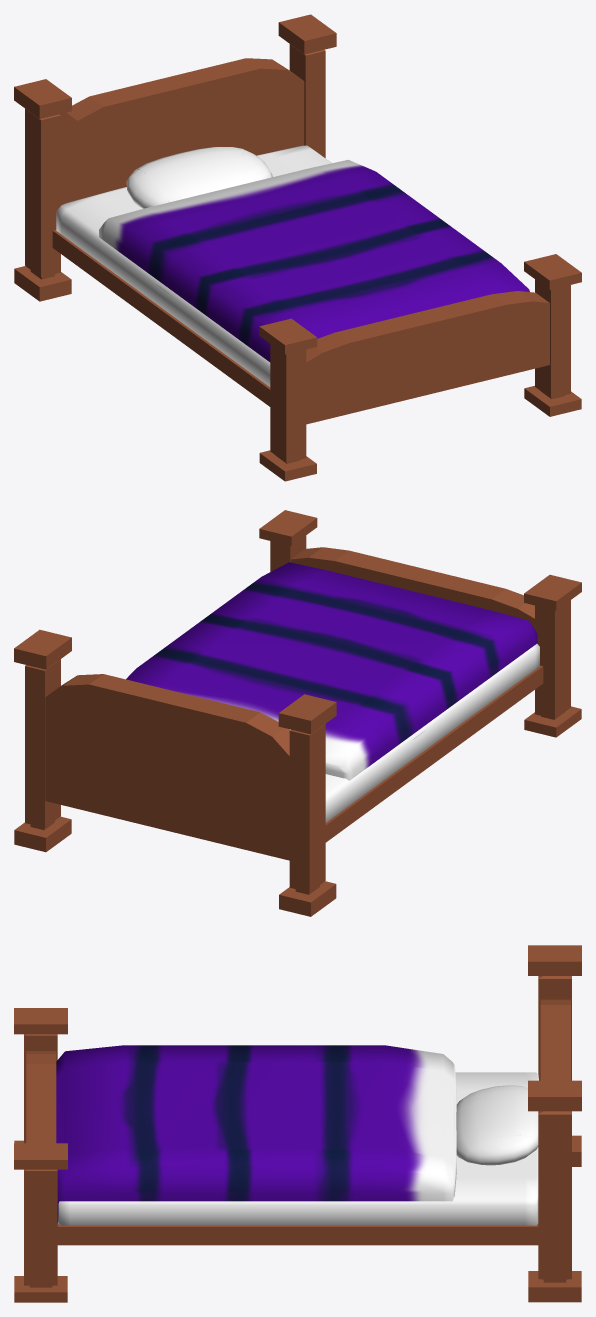
File: clean Bed.glb
3 views of the same model, one above another, from view 1: azimuth 30°, elevation 25°; view 2: azimuth 150°, elevation 25°; view 3: azimuth 270°, elevation 25° (orthographic). The views are drawn at different scales.
Parts seen in each view (by area): view 1: Cube, Cube.004, Cube.002, Cube.001, Cube.003, Cube.005; view 2: Cube.004, Cube, Cube.002, Cube.001, Cube.003; view 3: Cube.004, Cube.003, Cube, Cube.002, Cube.001, Cube.005.
Boxes of the visible parts, bbox=[...] form: Cube: bbox=[52, 58, 549, 424]; Cube.004: bbox=[99, 159, 529, 362]; Cube.002: bbox=[14, 14, 336, 301]; Cube.001: bbox=[259, 254, 581, 481]; Cube.003: bbox=[56, 145, 331, 386]; Cube.005: bbox=[126, 147, 272, 208]; Cube.004: bbox=[126, 562, 537, 780]; Cube: bbox=[45, 547, 543, 860]; Cube.002: bbox=[14, 629, 336, 916]; Cube.001: bbox=[259, 510, 581, 737]; Cube.003: bbox=[325, 644, 539, 822]; Cube.004: bbox=[56, 1045, 456, 1222]; Cube.003: bbox=[58, 1072, 538, 1225]; Cube: bbox=[26, 999, 570, 1245]; Cube.002: bbox=[528, 945, 581, 1302]; Cube.001: bbox=[14, 1008, 67, 1302]; Cube.005: bbox=[456, 1085, 538, 1165].
Bounding box in the file's own units: 0.9515 × 0.6015 × 1.5.
Materials: 5 (5 with a texture image).
